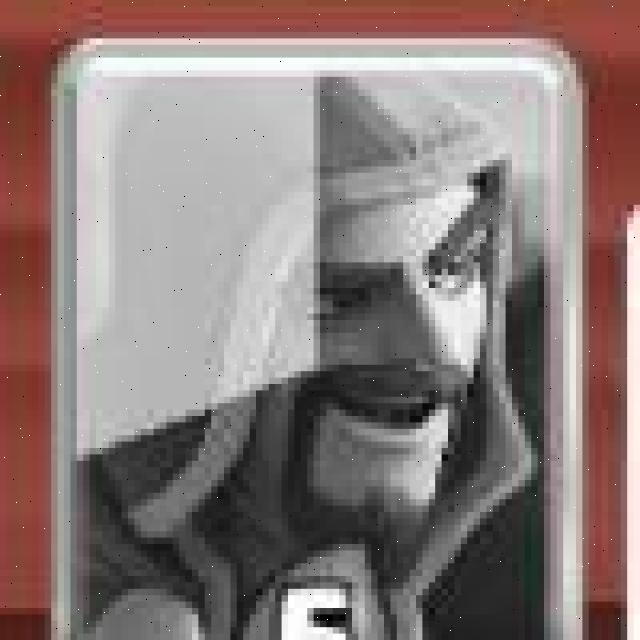Wizard: (55, 42, 572, 640)
